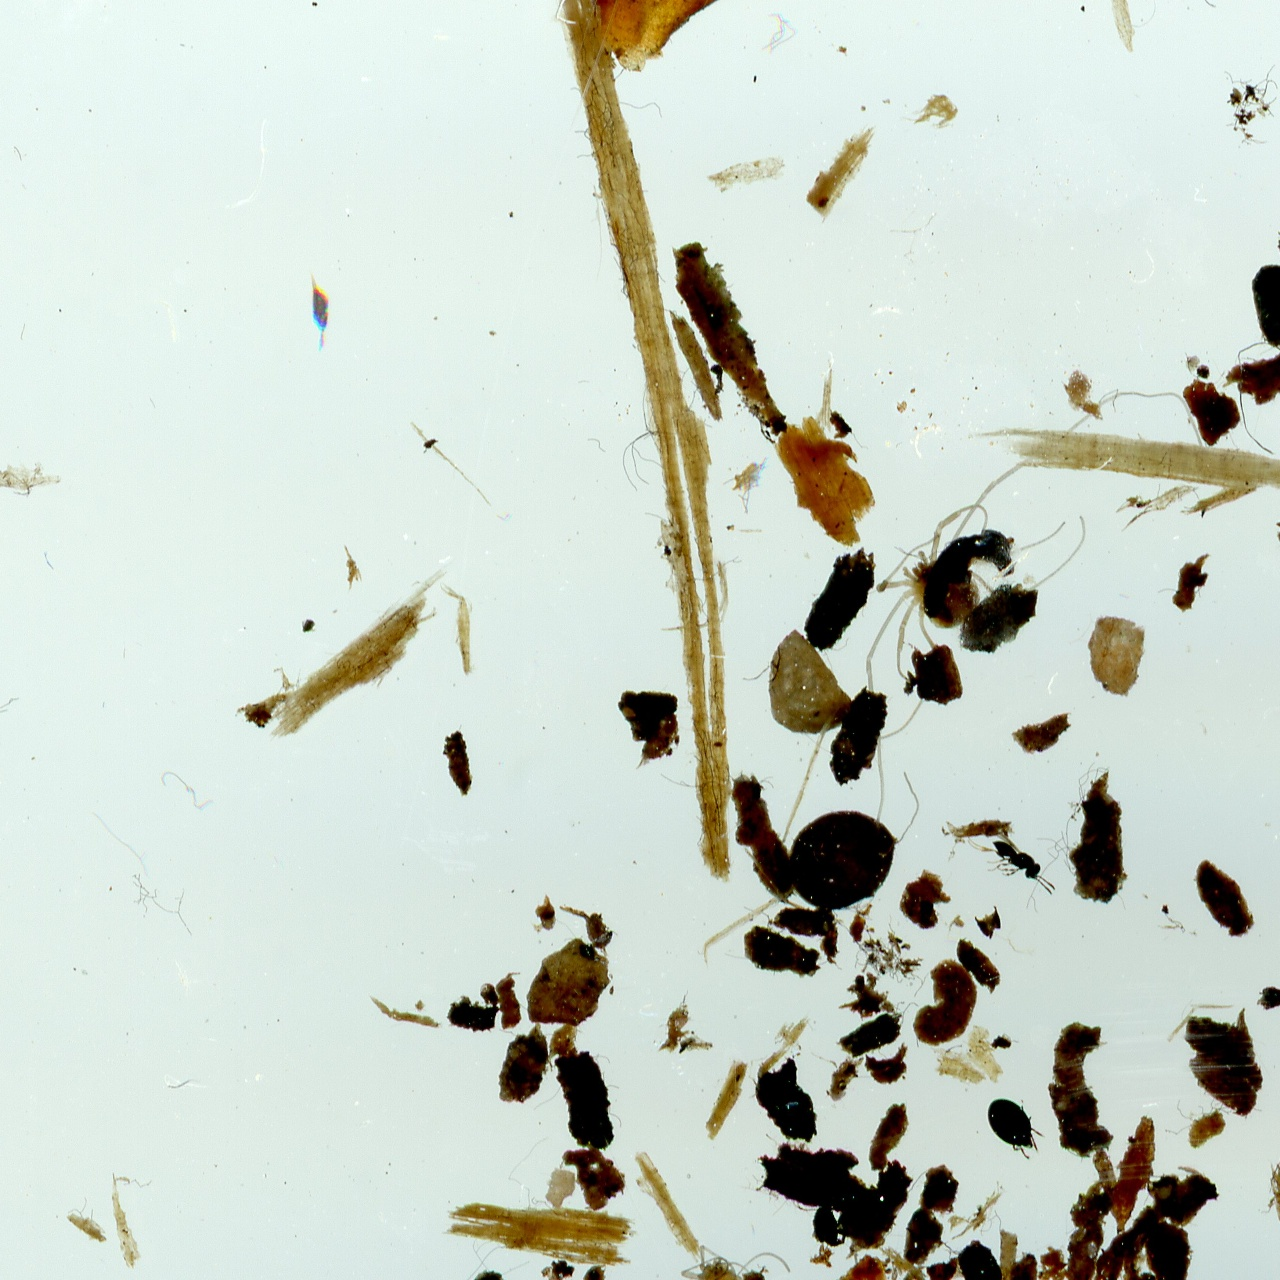arthropod: (734, 308, 1259, 857), (956, 813, 1069, 912), (646, 1241, 842, 1280), (983, 1094, 1047, 1164), (305, 261, 332, 356)
